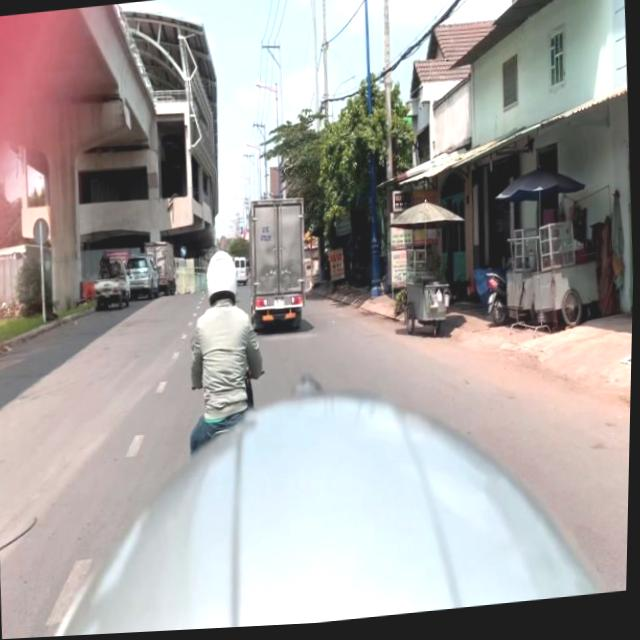Vong chuong ngai vat sang phai: (181, 247, 188, 260)
